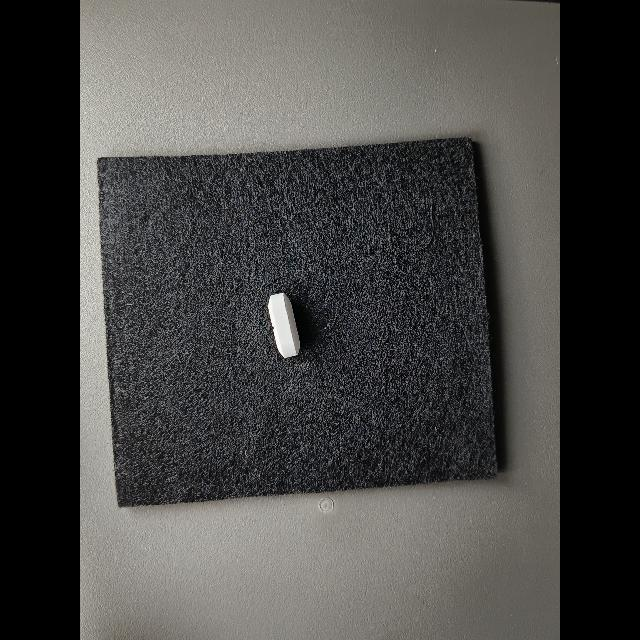Intact Pill: (268, 292, 300, 358)
